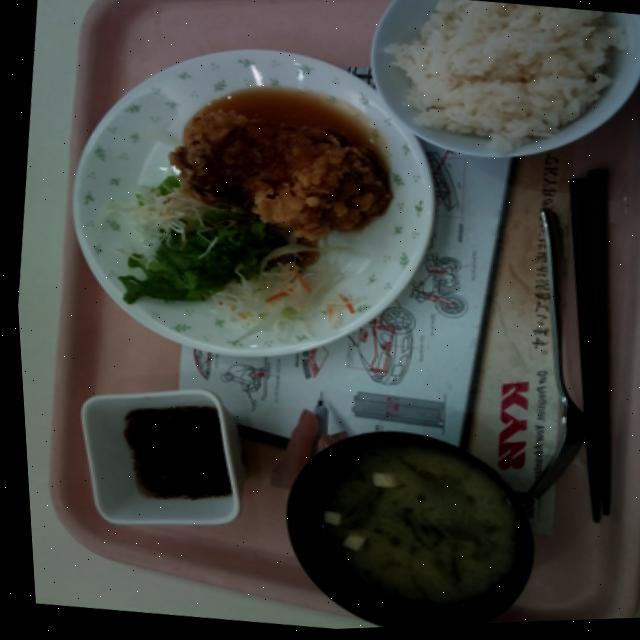米饭主食: (344, 0, 640, 186)
